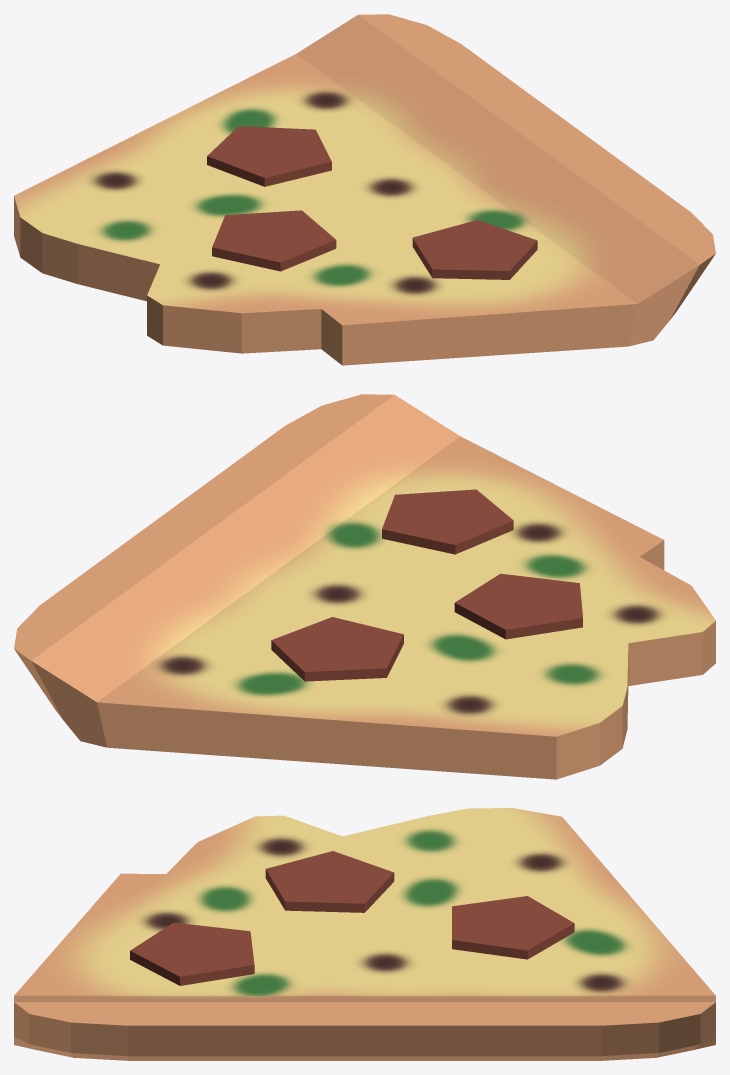
Rendered from pizza.fbx.
3 renders of one model, top to bottom at view 1: azimuth 30°, elevation 25°; view 2: azimuth 150°, elevation 25°; view 3: azimuth 270°, elevation 25°, orthographic. The views are drawn at different scales.
Visible parts, largest first — view 1: pizza; view 2: pizza; view 3: pizza.
Boxes of the visible parts, left/top/right/bottom form: pizza: left=14, top=14, right=715, bottom=365; pizza: left=14, top=394, right=715, bottom=779; pizza: left=14, top=808, right=715, bottom=1060.
Bounding box in the file's own units: 191 × 24.33 × 234.
